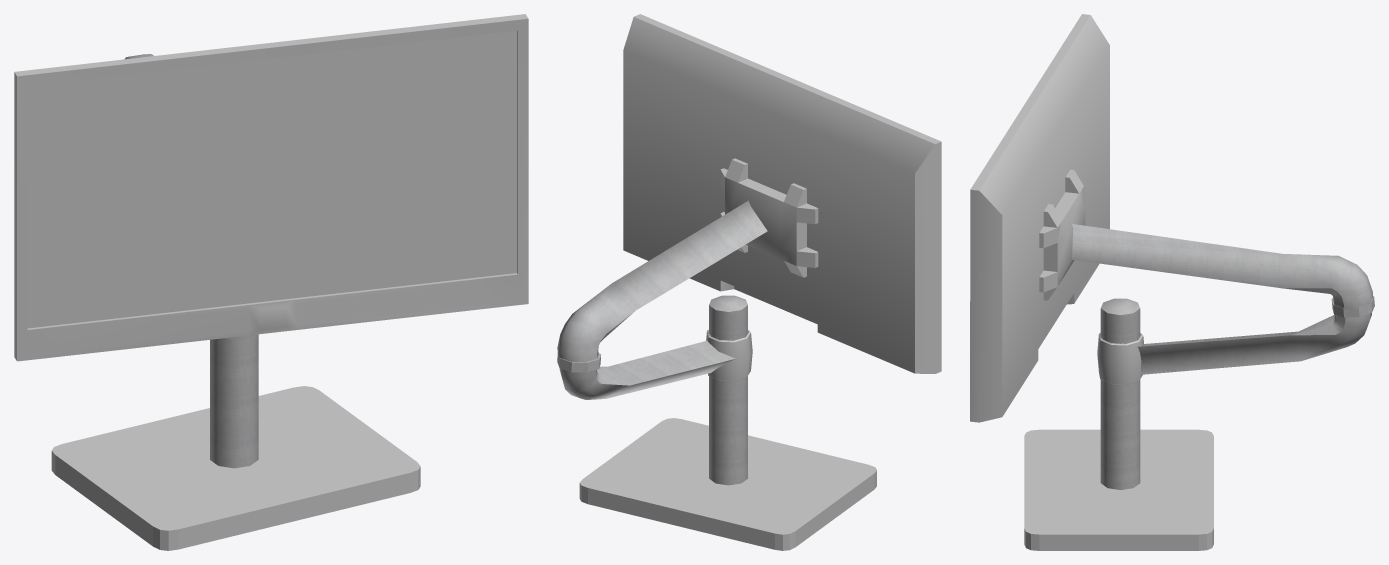
3 renders of one model, left to right at view 1: azimuth 30°, elevation 25°; view 2: azimuth 150°, elevation 25°; view 3: azimuth 270°, elevation 25°, orthographic. The views are drawn at different scales.
Parts seen in each view (by area): view 1: pc_1; view 2: pc_1; view 3: pc_1.
Part boxes in pixels (x1,y1,x2,y2): pc_1: [14, 14, 528, 550]; pc_1: [557, 14, 941, 550]; pc_1: [970, 14, 1374, 550].
Bounding box in the file's own units: 0.4894 × 0.5018 × 0.4739.
